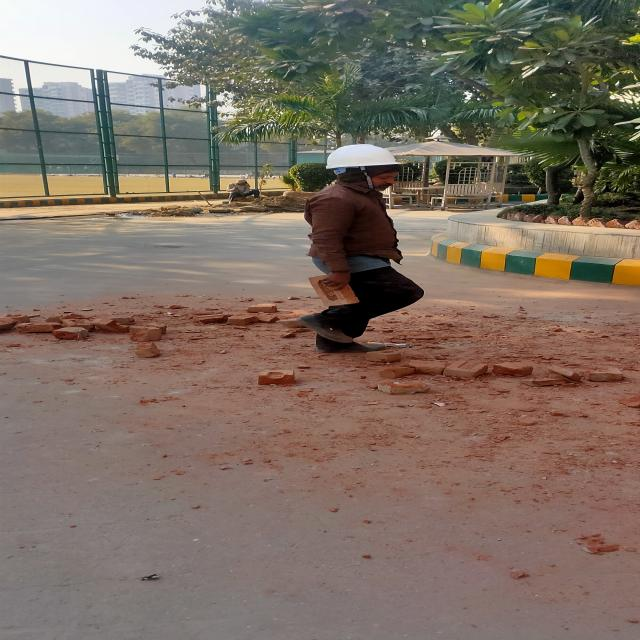no jacket: (297, 145, 424, 349)
